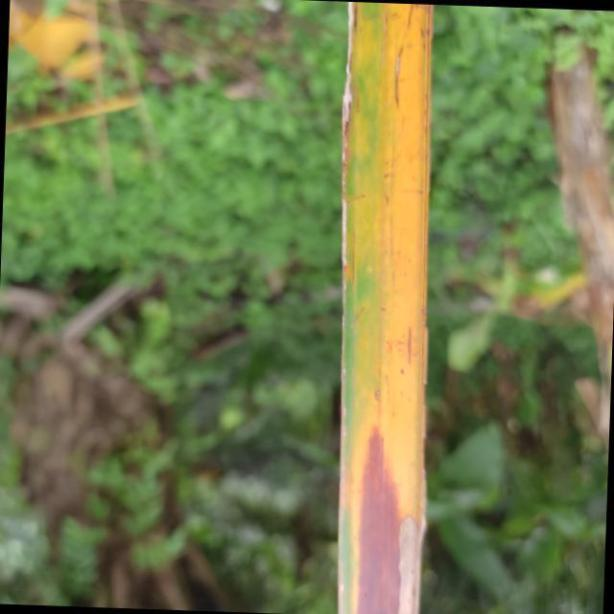Megnesium: (336, 0, 430, 614)
